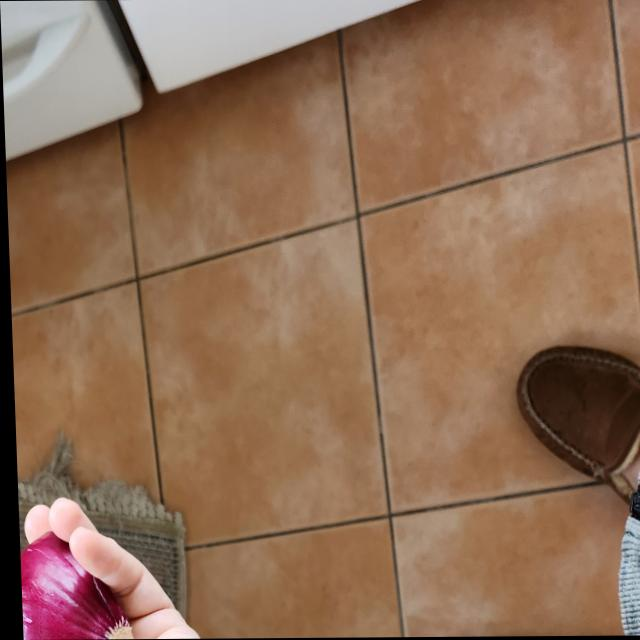red onion: (16, 533, 133, 640)
